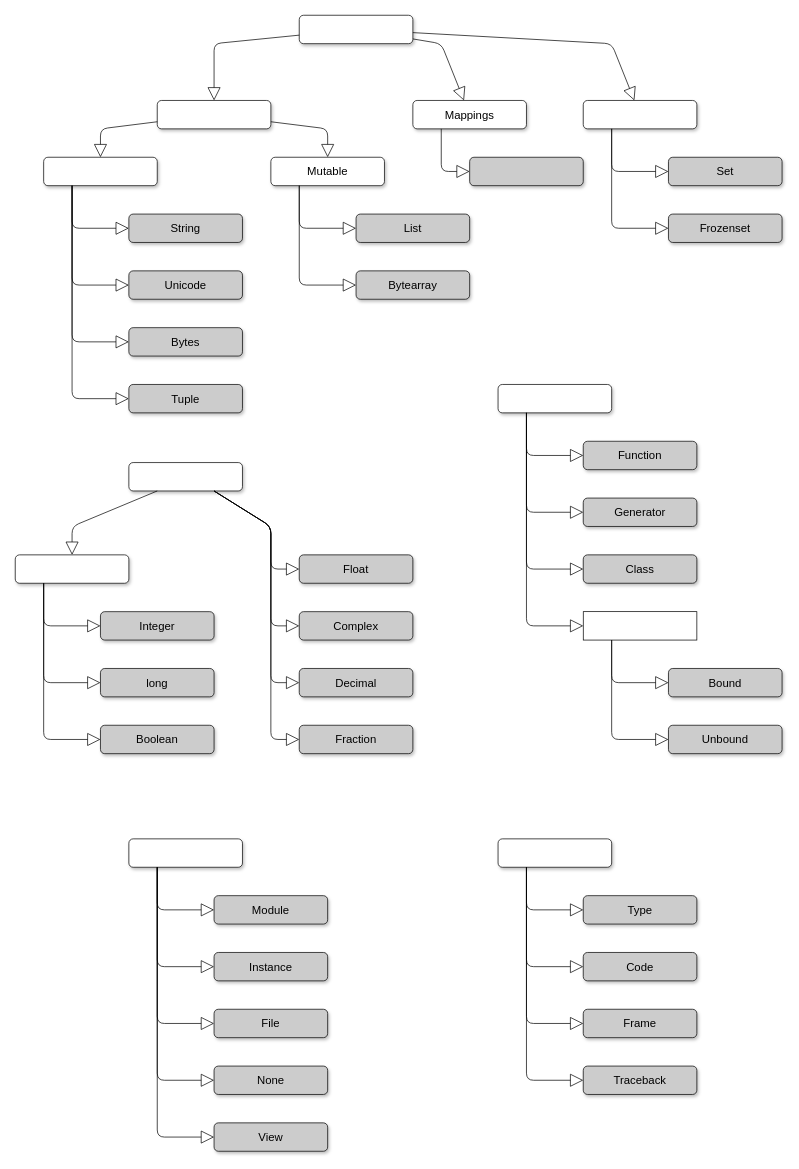
Some shapes in this 799 by 1169 pixel diagram are drawn without their labels. Each missing label, with the centre of its shape:
Callables: (x=555, y=399)
Collections: (x=356, y=30)
Dictionary: (x=527, y=172)
Immutable: (x=101, y=172)
Integers: (x=72, y=569)
Internals: (x=555, y=853)
Method: (x=640, y=625)
Numbers: (x=186, y=477)
Other: (x=186, y=853)
Sequences: (x=214, y=115)
Sets: (x=640, y=115)
